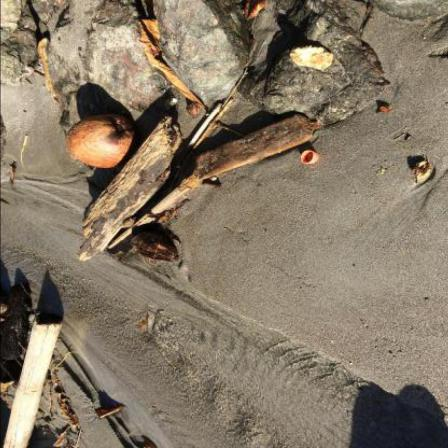Bottle cap: (302, 151, 319, 164)
